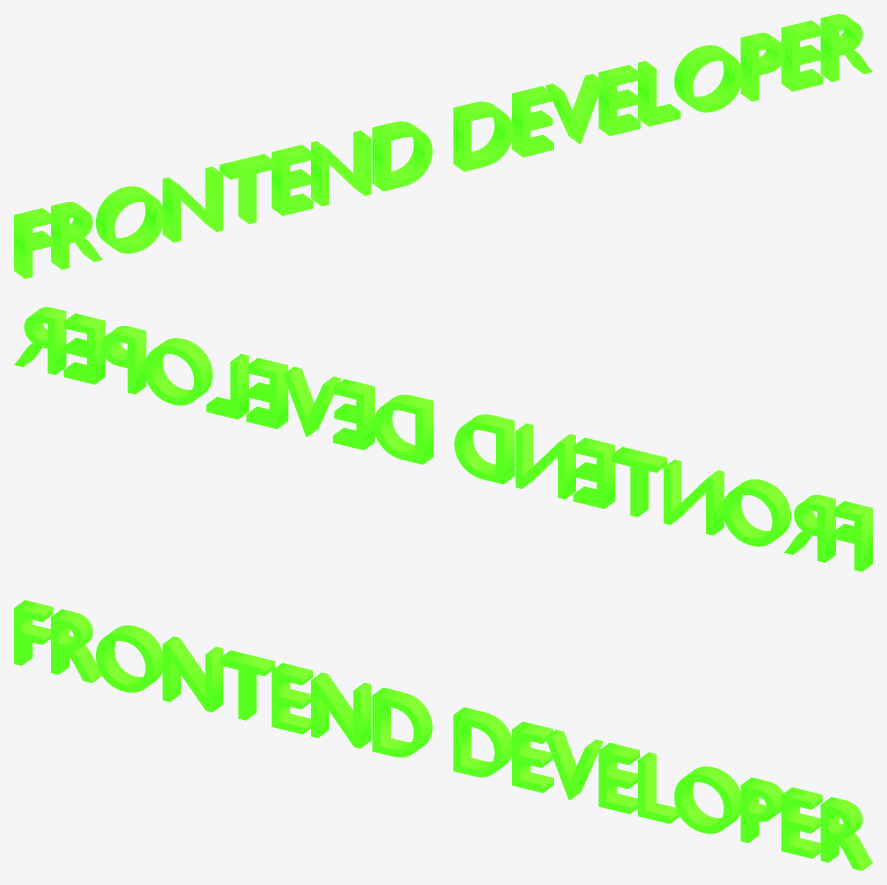
The model's file is FRONTENDDEVELOPERTEXT.glb.
The picture shows the model from 3 angles, top to bottom: view 1: azimuth 30°, elevation 25°; view 2: azimuth 150°, elevation 25°; view 3: azimuth 330°, elevation 25°; orthographic projection.
Parts seen in each view (by area): view 1: Text; view 2: Text; view 3: Text.
Boxes of the visible parts, x1,y1,x2,y2 form: Text: (14, 14, 872, 278); Text: (14, 307, 872, 571); Text: (14, 600, 872, 870).
Size of the model in its own units: 10.8 by 0.7 by 0.24.
